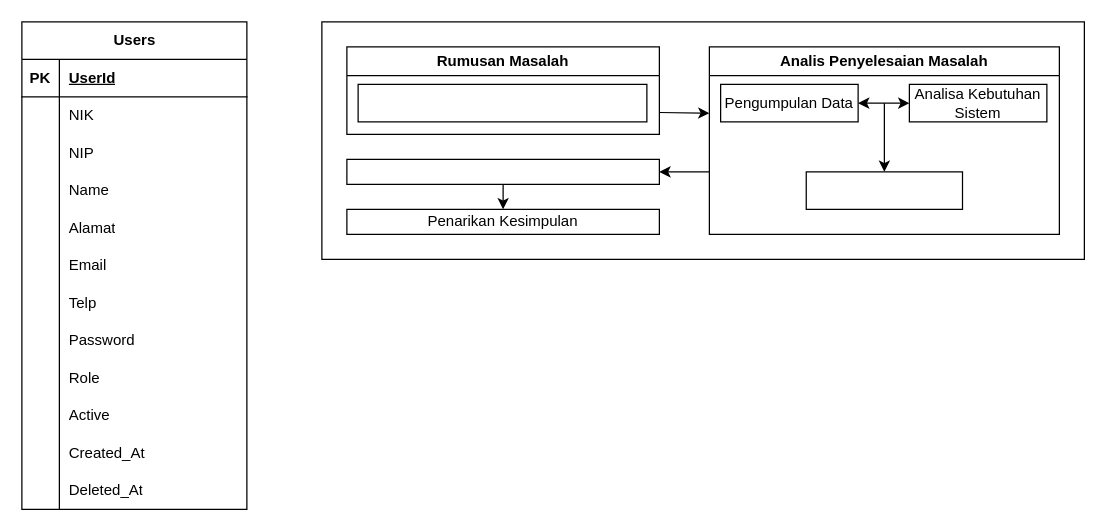
Image size: 1106x531. Some labels were removed from this diagram. Each missing label, with the centre of its shape:
Identifikasi Masalah: [502,102]
Implementasi Perangkat Lunak: [502,171]
Perancangan Sistem: [883,190]
